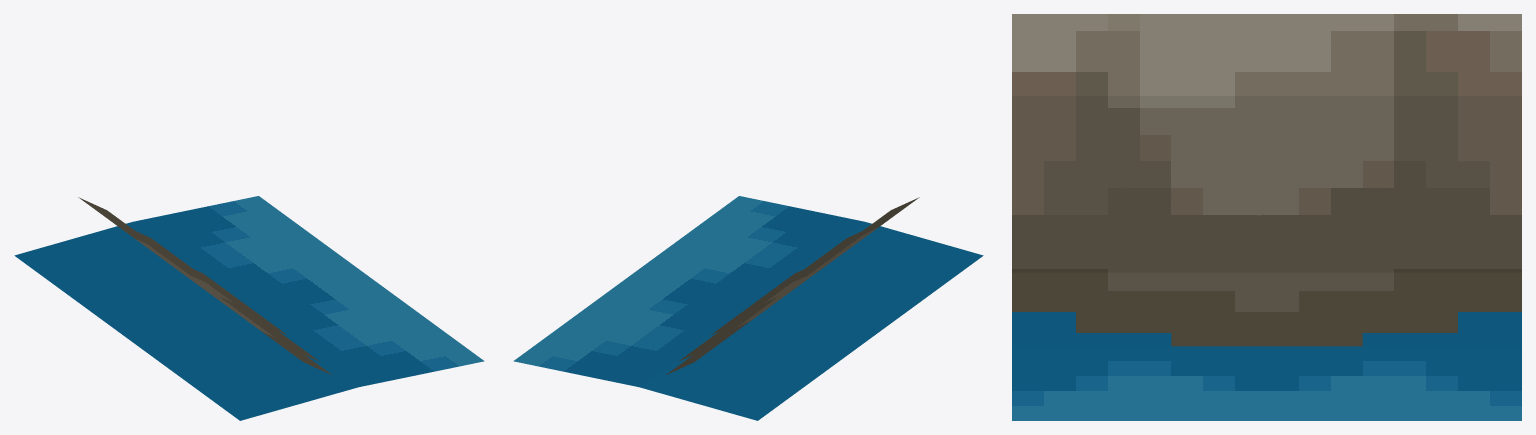
3 renders of one model, left to right at view 1: azimuth 30°, elevation 25°; view 2: azimuth 150°, elevation 25°; view 3: azimuth 270°, elevation 25°, orthographic. The views are drawn at different scales.
Bounding box in the file's own units: 0.625 × 0.5896 × 1.
Materials: 2 (2 with a texture image).
